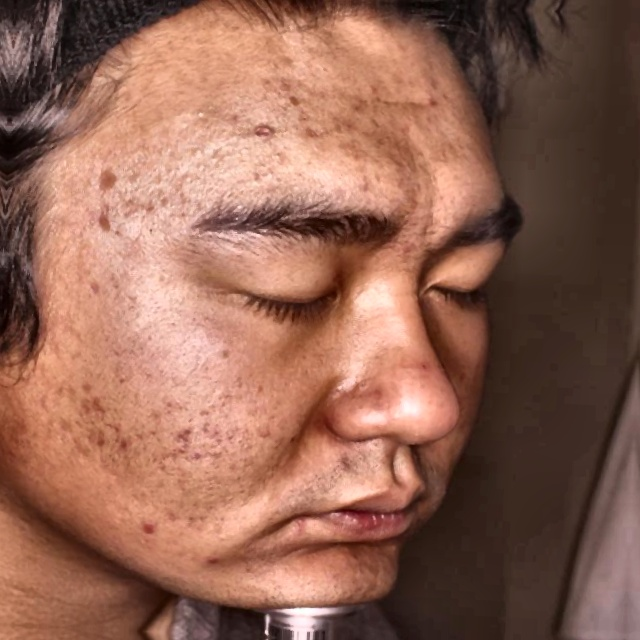comedone: (73, 387, 111, 433), (132, 513, 163, 544)
